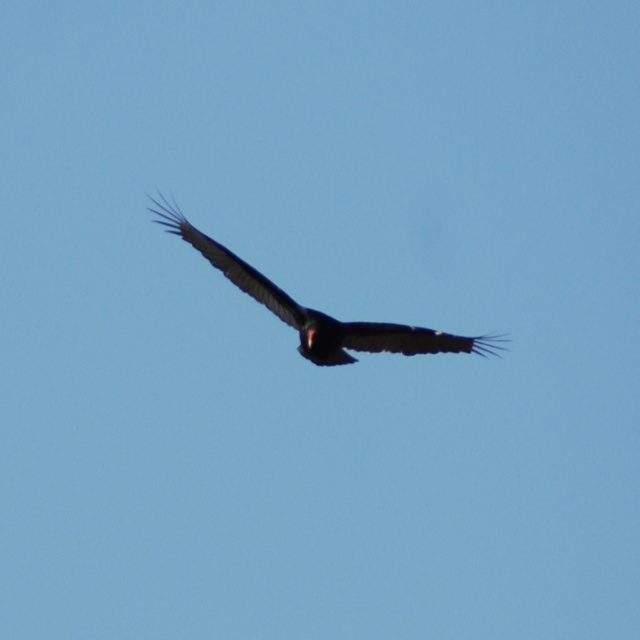Eagle: (142, 183, 517, 365)
